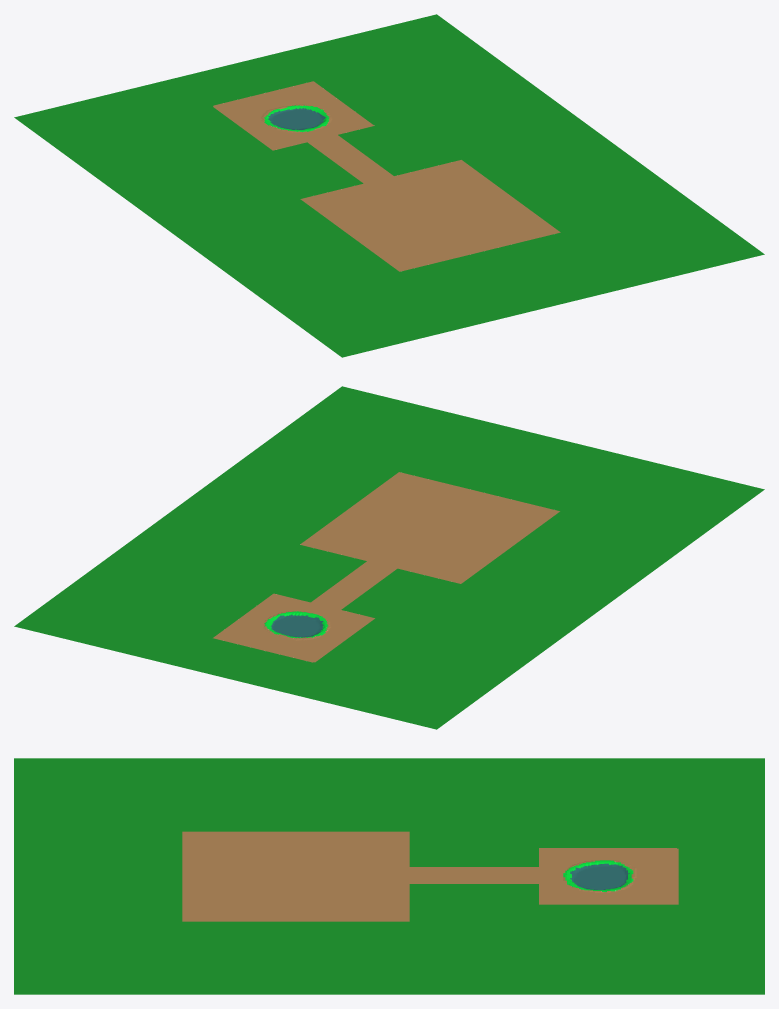
The model's file is portfoliowithadditions.glb.
3 views of the same model, one above another, from view 1: azimuth 30°, elevation 25°; view 2: azimuth 150°, elevation 25°; view 3: azimuth 270°, elevation 25° (orthographic). The views are drawn at different scales.
Visible parts, largest first — view 1: ground; view 2: ground; view 3: ground.
Boxes of the visible parts, x1,y1,x2,y2 form: ground: [14, 14, 764, 357]; ground: [14, 386, 764, 729]; ground: [14, 758, 764, 994].
Bounding box in the file's own units: 95.62 × 0.3272 × 129.
